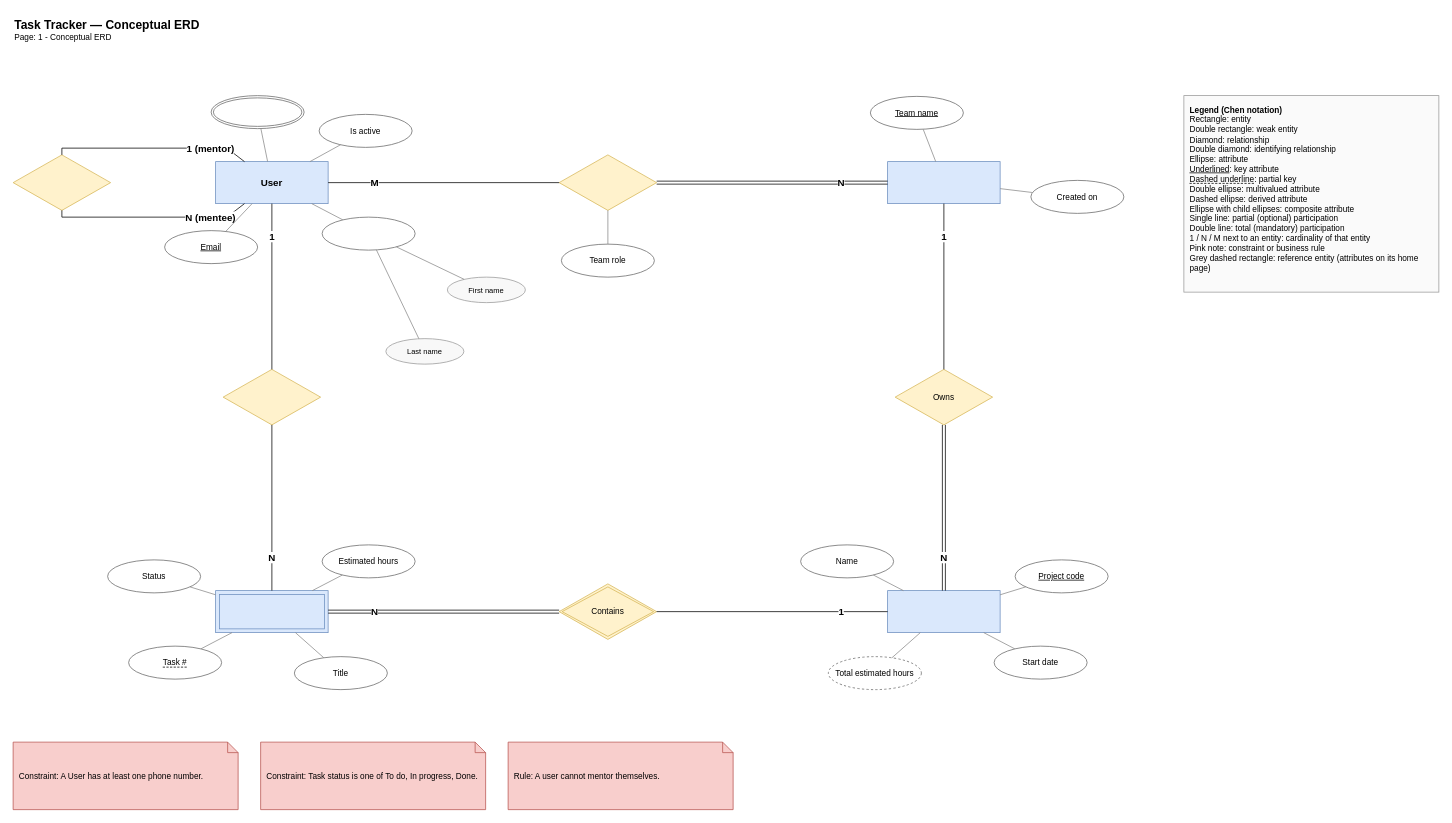
The diagram is 1452 pixels wide and 823 high, and some of its shapes have lost their labels. The shapes that lost their labels are listed below. From the top down, each one's centre as x and y in pixels, then its label:
At point (257, 112): "Phone numbers".
At point (61, 182): "Mentors".
At point (607, 182): "Member of".
At point (943, 182): "Team".
At point (368, 233): "Full name".
At point (271, 397): "Assigned to".
At point (271, 611): "Task".
At point (943, 611): "Project".
